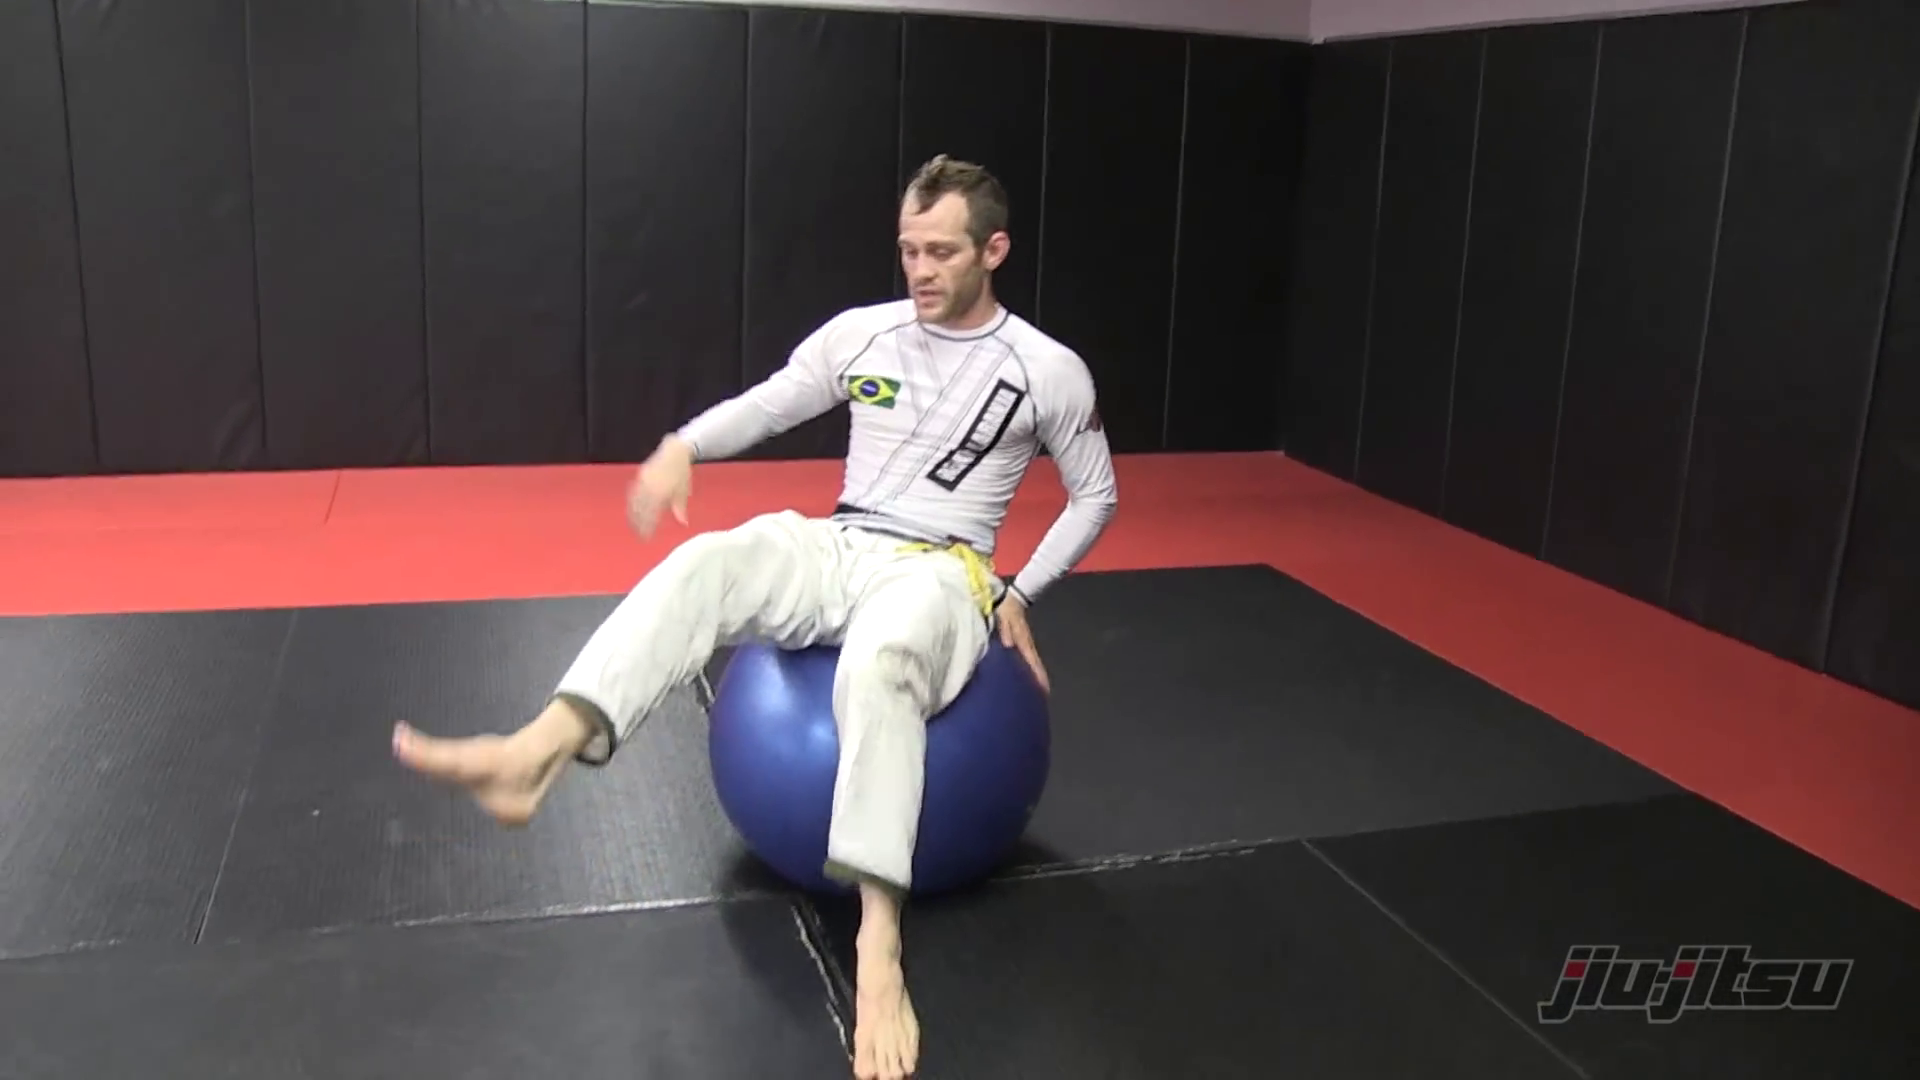yogaball: (688, 600, 1060, 919)
